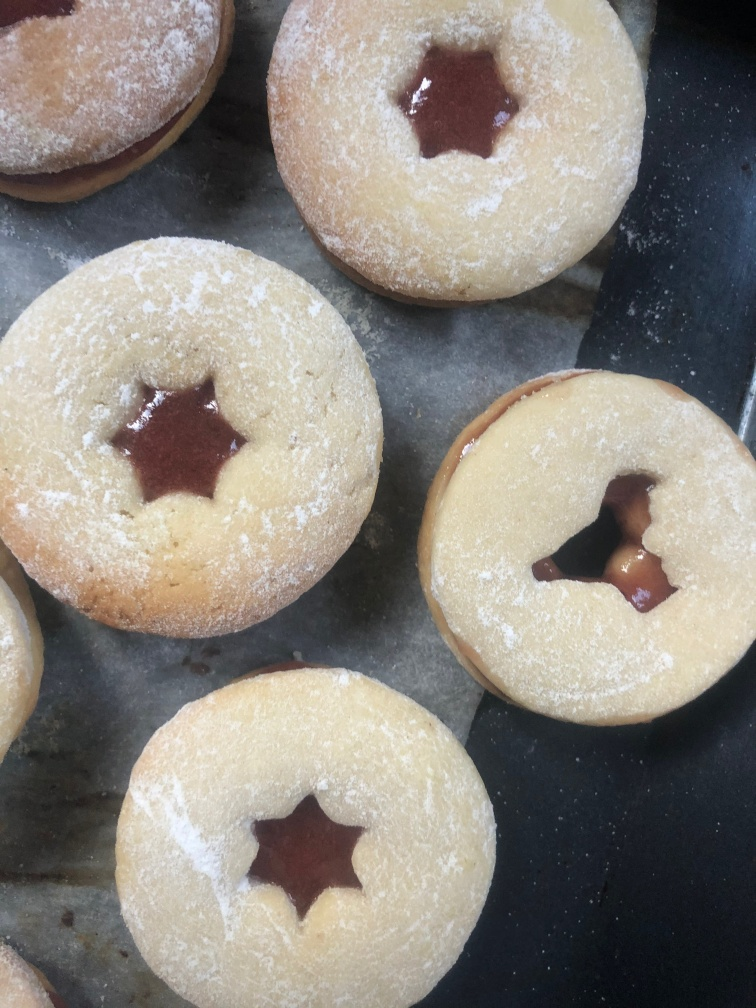christmas shortbread with jam: (7, 235, 383, 639), (105, 664, 493, 1008), (415, 359, 755, 722), (271, 2, 646, 302)
